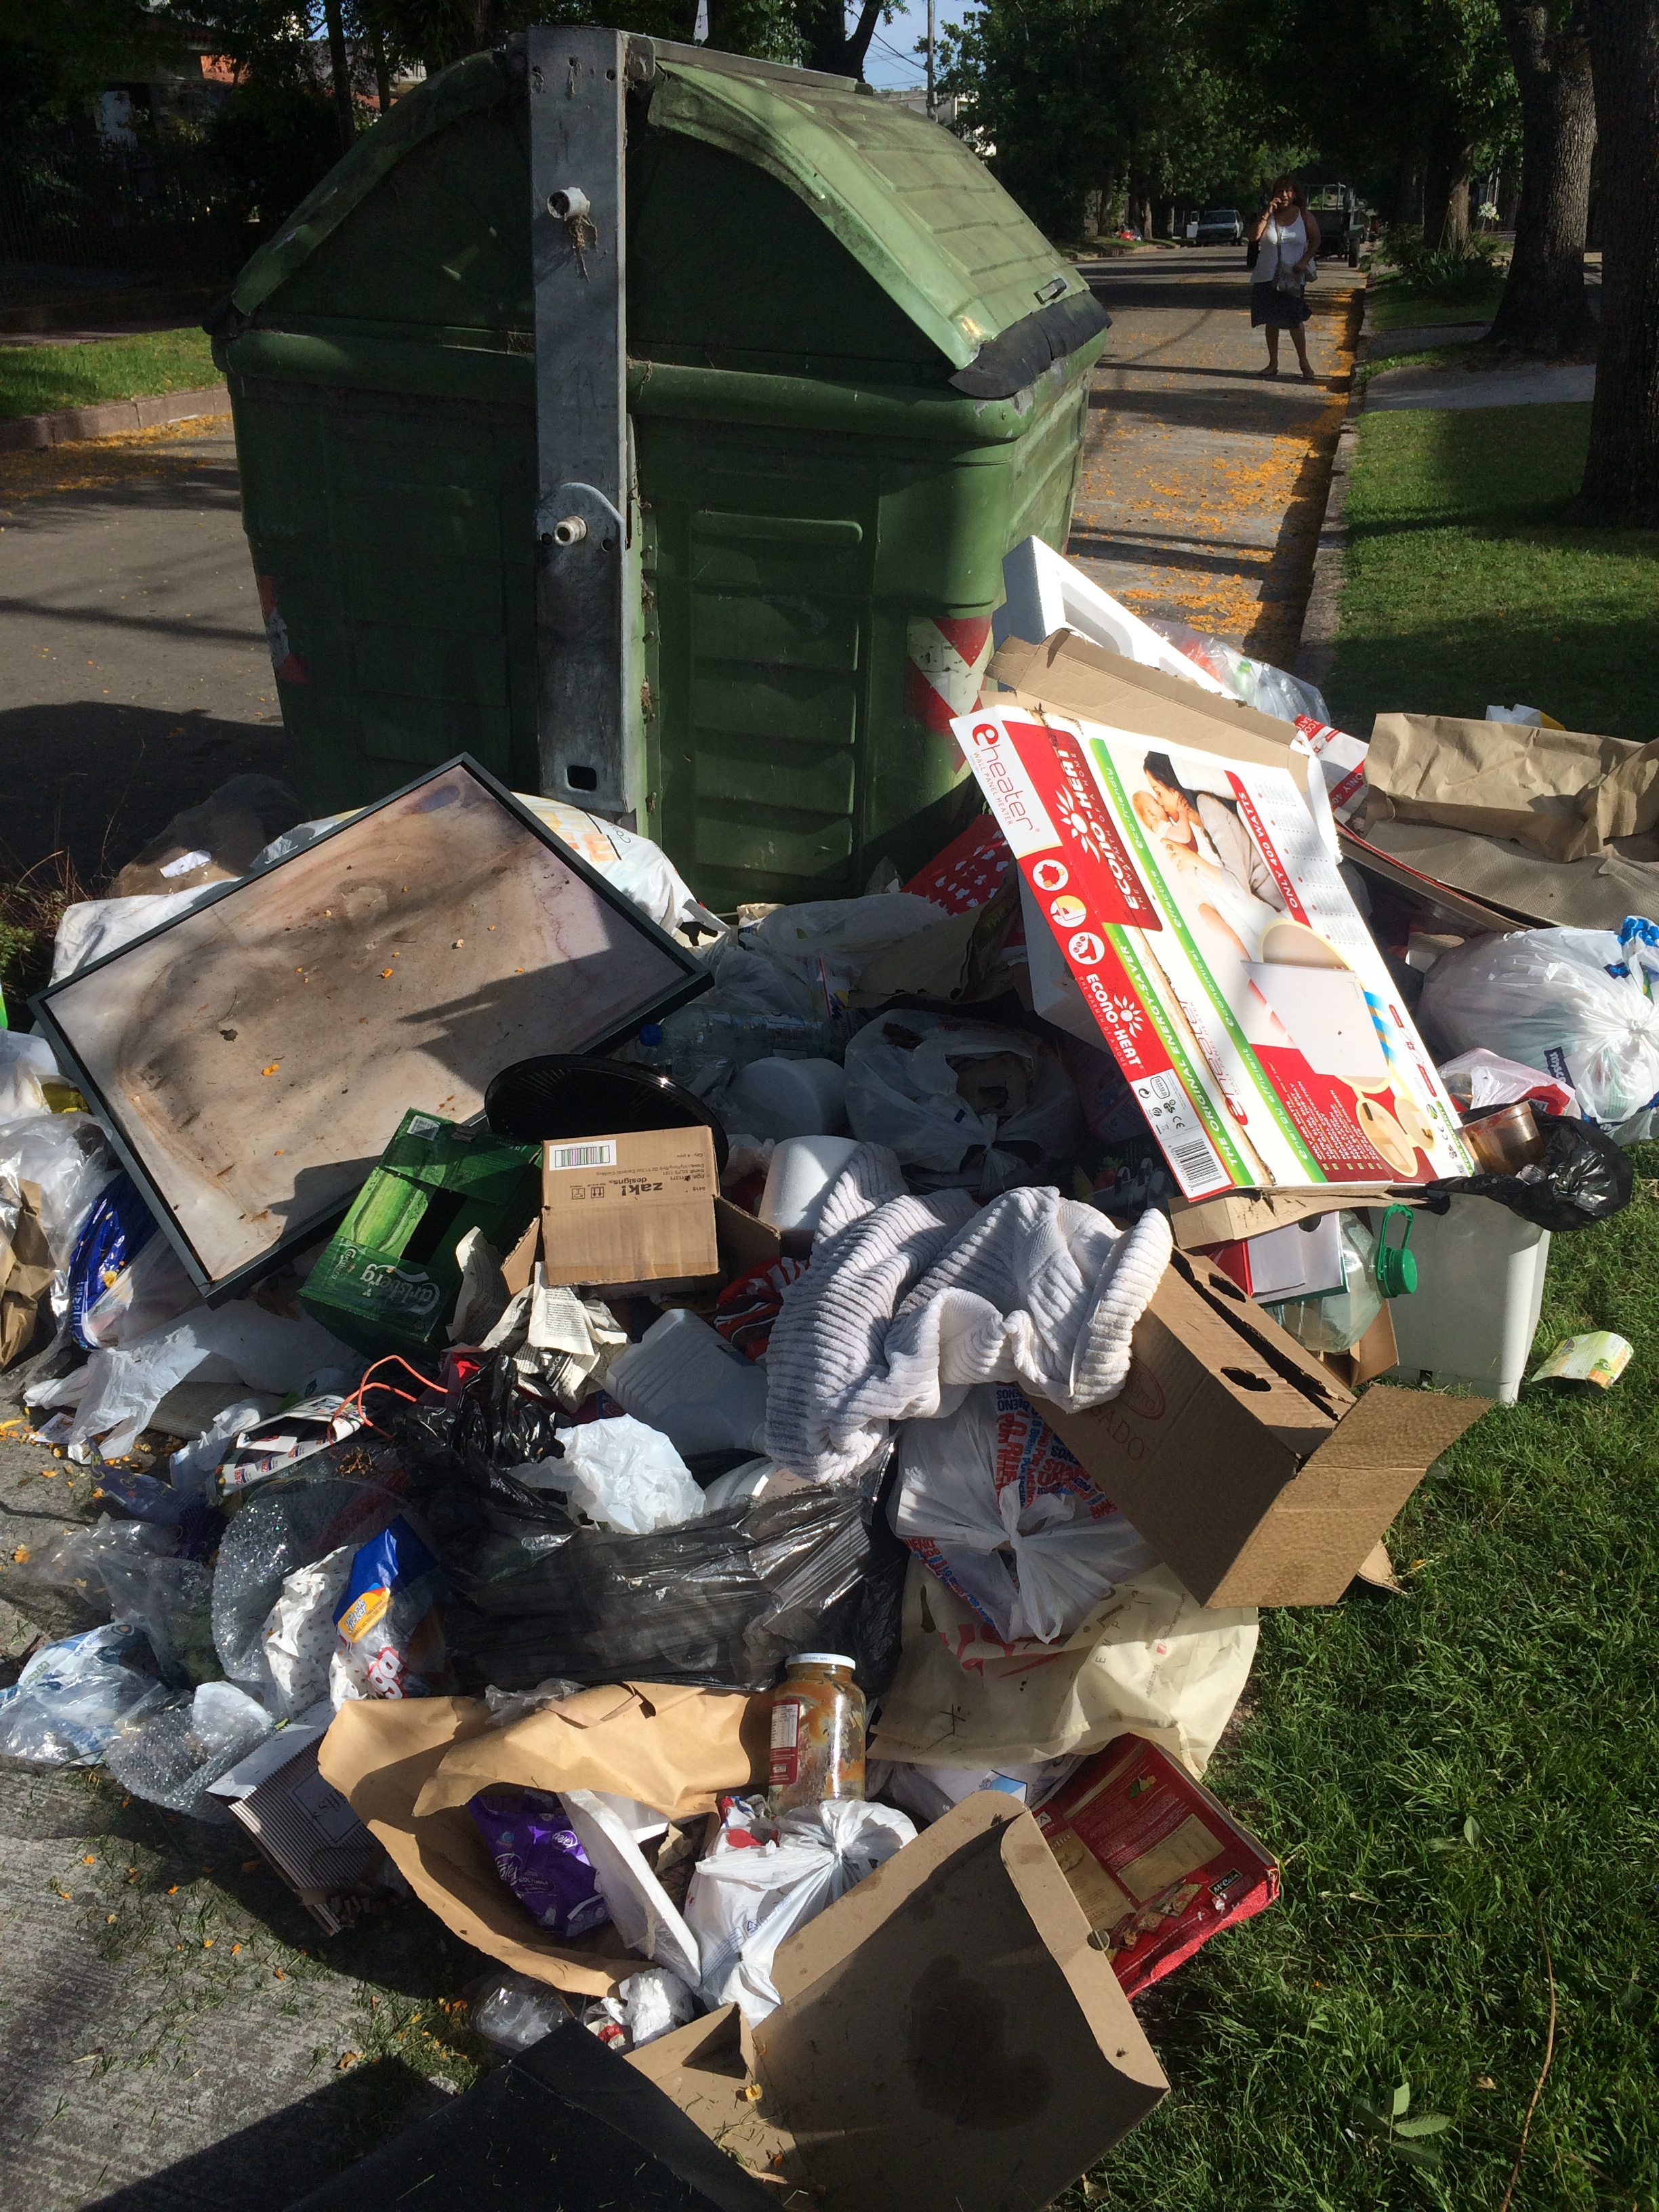container: (195, 19, 1121, 941)
